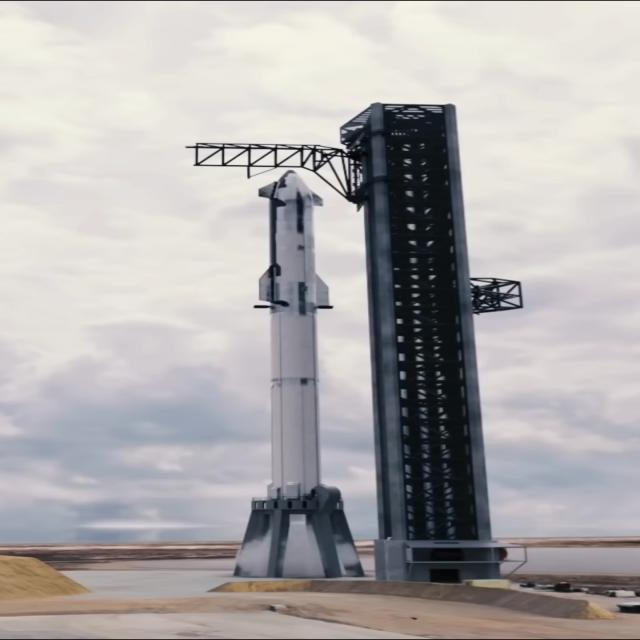Missile: (250, 183, 334, 504)
